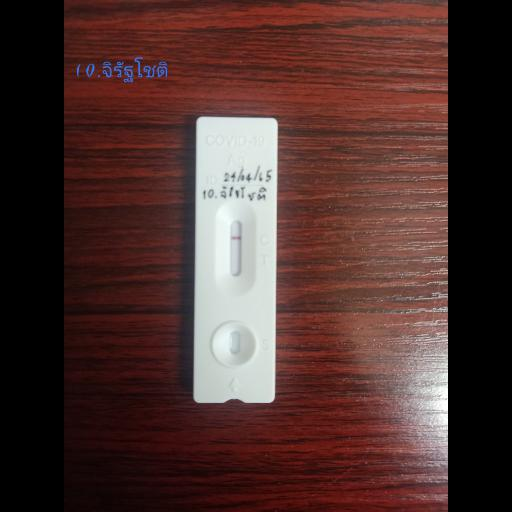Neg: (196, 117, 280, 405)
